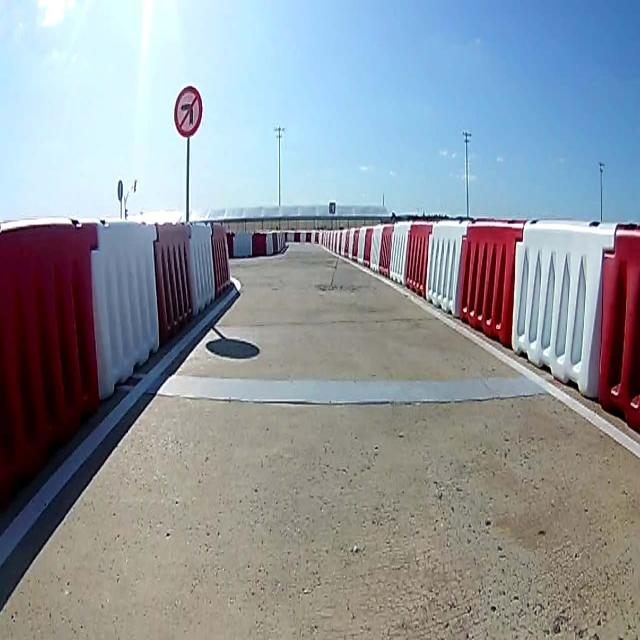soladonulmez: (174, 83, 203, 137)
